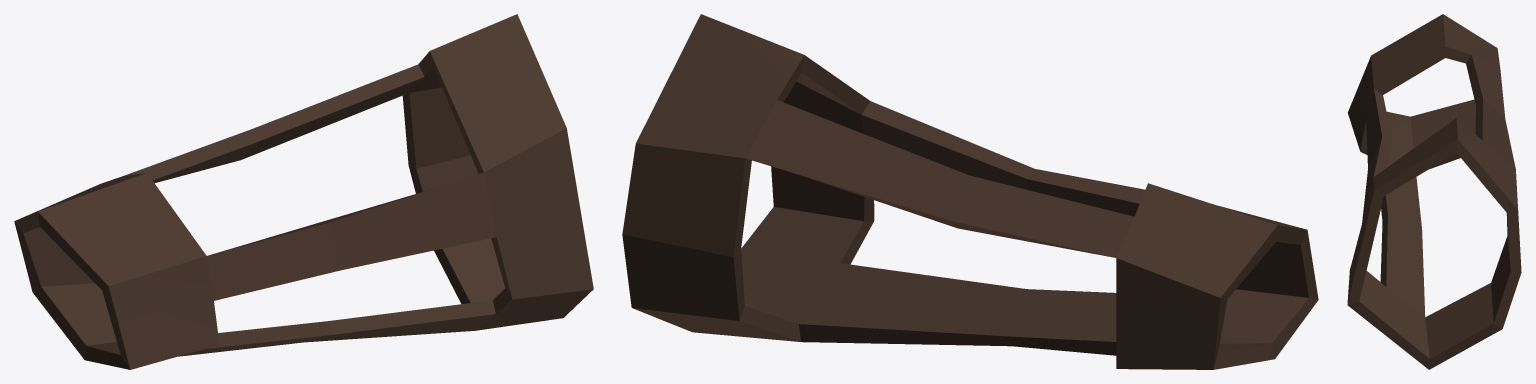
Rendered from Chr_ArmLowerRight_Female_09_Drop.fbx.
3 renders of one model, left to right at view 1: azimuth 30°, elevation 25°; view 2: azimuth 150°, elevation 25°; view 3: azimuth 270°, elevation 25°, orthographic. The views are drawn at different scales.
Visible parts, largest first — view 1: Chr_ArmLowerRight_Female_09_Static; view 2: Chr_ArmLowerRight_Female_09_Static; view 3: Chr_ArmLowerRight_Female_09_Static.
Boxes of the visible parts, bbox=[...] form: Chr_ArmLowerRight_Female_09_Static: bbox=[14, 14, 593, 369]; Chr_ArmLowerRight_Female_09_Static: bbox=[622, 14, 1318, 369]; Chr_ArmLowerRight_Female_09_Static: bbox=[1347, 14, 1521, 369].
Bounding box in the file's own units: 23.54 × 12.8 × 9.14.
